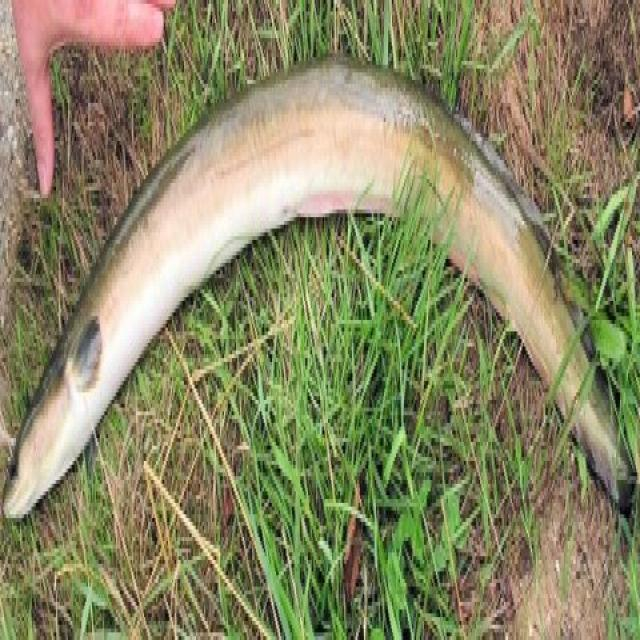Freshwater-Eel: (12, 56, 636, 596)
